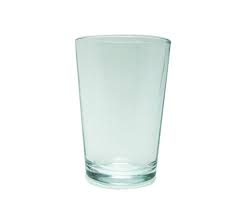glass: (71, 31, 174, 189)
